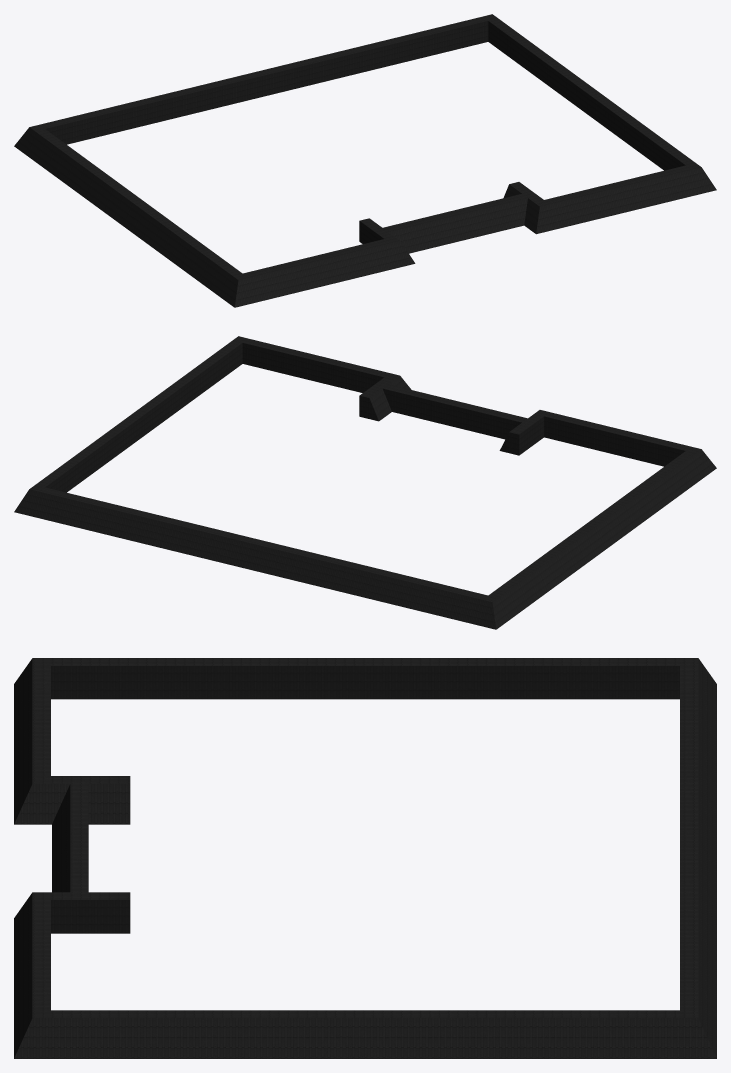
The model's file is roof.glb.
The picture shows the model from 3 angles, top to bottom: view 1: azimuth 30°, elevation 25°; view 2: azimuth 150°, elevation 25°; view 3: azimuth 270°, elevation 25°; orthographic projection. The views are drawn at different scales.
Parts seen in each view (by area): view 1: Roof; view 2: Roof; view 3: Roof.
Part boxes in pixels (bbox=[...]): Roof: bbox=[14, 14, 716, 307]; Roof: bbox=[14, 336, 716, 629]; Roof: bbox=[14, 658, 716, 1058].
Bounding box in the file's own units: 24 × 1 × 19.02.
Materials: 1 (1 with a texture image).
